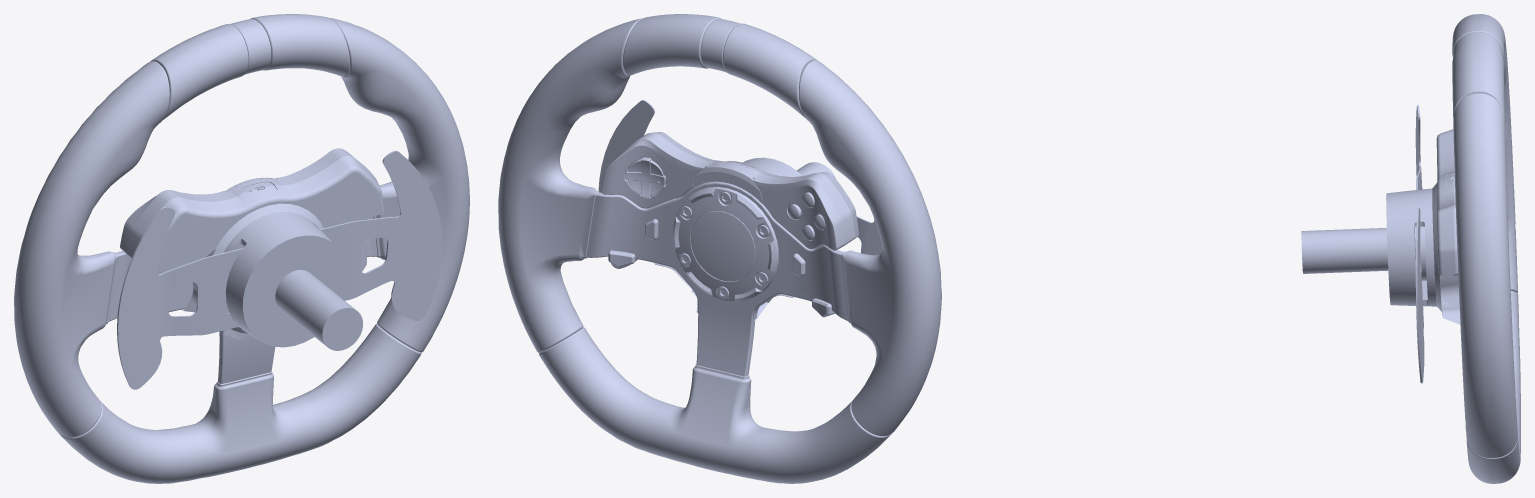
The picture shows the model from 3 angles, left to right: view 1: azimuth 30°, elevation 25°; view 2: azimuth 150°, elevation 25°; view 3: azimuth 270°, elevation 25°; orthographic projection. The views are drawn at different scales.
Visible parts, largest first — view 1: G29 WHEEL014, G29 WHEEL043, G29 WHEEL016, G29 WHEEL024, G29 WHEEL013, G29 WHEEL015, G29 WHEEL012, G29 WHEEL041, G29 WHEEL052, G29 WHEEL017; view 2: G29 WHEEL014, G29 WHEEL013, G29 WHEEL016, G29 WHEEL043, G29 WHEEL052, G29 WHEEL015, G29 WHEEL012, G29 WHEEL057, G29 WHEEL024, G29 WHEEL017, G29 WHEEL042, G29 WHEEL038; view 3: G29 WHEEL013, G29 WHEEL043, G29 WHEEL041, G29 WHEEL012, G29 WHEEL016, G29 WHEEL014, G29 WHEEL024, G29 WHEEL015, G29 WHEEL017.
Boxes of the visible parts, x1,y1,x2,y2 form: G29 WHEEL014: (14,61,169,437); G29 WHEEL043: (120,148,384,347); G29 WHEEL016: (58,324,421,483); G29 WHEEL024: (117,150,442,389); G29 WHEEL013: (330,18,469,352); G29 WHEEL015: (150,24,248,120); G29 WHEEL012: (251,14,349,76); G29 WHEEL041: (275,270,363,350); G29 WHEEL052: (108,217,377,383); G29 WHEEL017: (230,19,271,74); G29 WHEEL014: (799,60,941,436); G29 WHEEL013: (498,18,642,352); G29 WHEEL016: (539,327,892,483); G29 WHEEL043: (601,132,859,321); G29 WHEEL052: (586,181,848,376); G29 WHEEL015: (722,23,817,117); G29 WHEEL012: (623,14,720,75); G29 WHEEL057: (690,210,755,281); G29 WHEEL024: (598,100,881,268); G29 WHEEL017: (700,18,740,72); G29 WHEEL042: (625,157,666,197); G29 WHEEL038: (693,167,762,203); G29 WHEEL013: (1453,93,1517,458); G29 WHEEL043: (1386,129,1460,324); G29 WHEEL041: (1301,228,1388,273); G29 WHEEL012: (1452,42,1504,116); G29 WHEEL016: (1466,290,1520,483); G29 WHEEL014: (1468,14,1517,292); G29 WHEEL024: (1415,105,1424,383); G29 WHEEL015: (1452,14,1504,57); G29 WHEEL017: (1453,32,1502,58).
Bounding box in the file's own units: 27.38 × 26.36 × 22.31.
